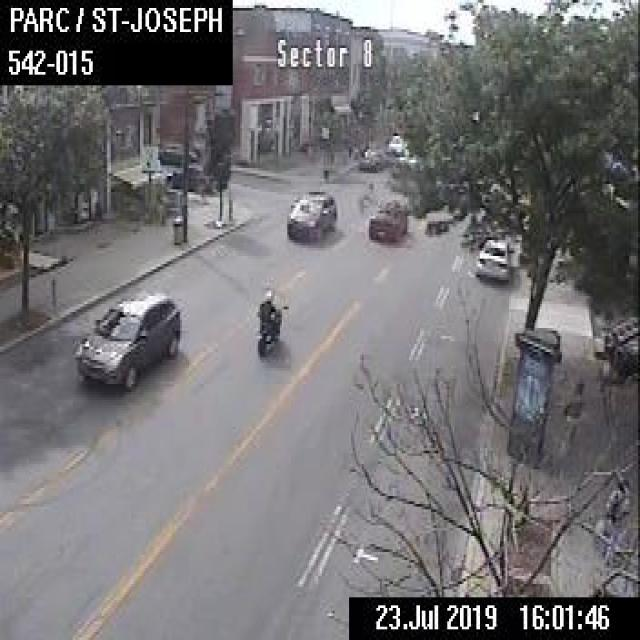pedestrian: (594, 475, 630, 564), (562, 378, 582, 451)
vehicle: (72, 289, 180, 389), (284, 187, 336, 240), (255, 286, 287, 355), (368, 192, 408, 243), (166, 158, 224, 189), (471, 235, 509, 282), (157, 139, 200, 161), (355, 144, 383, 170), (384, 131, 404, 154)
